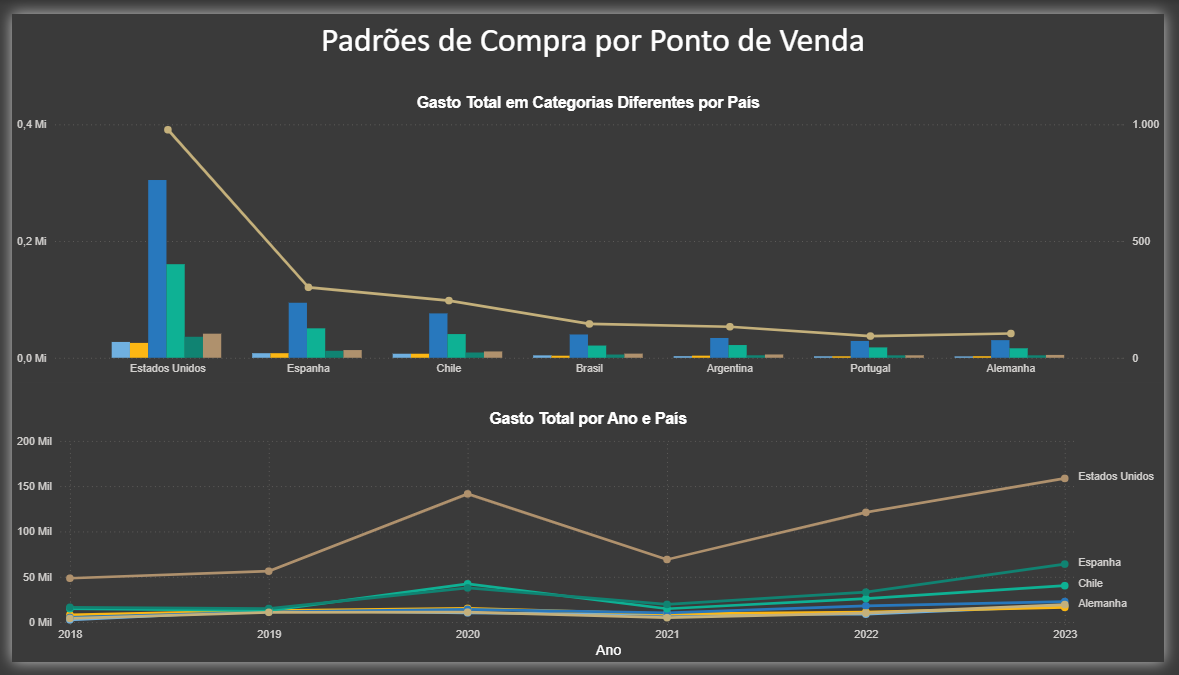

The dashboard page shown, as its layout file describes it:
{"tool":"powerbi","page":{"name":"Visão Pontos de Venda","canvas":[1280,720],"ordinal":3},"visuals":[{"type":"textbox","box":[9.5,0,1270.9,68.4],"z":0},{"type":"lineClusteredColumnComboChart","title":"Gasto Total em Categorias Diferentes por País","fields":{"Category":["DadosMarketing.Pais"],"Y":["Sum(DadosMarketing.Gasto com Alimentos)","Sum(DadosMarketing.Gasto com Brinquedos)","Sum(DadosMarketing.Gasto com Eletronicos)","Sum(DadosMarketing.Gasto com Moveis)","Sum(DadosMarketing.Gasto com Utilidades)","Sum(DadosMarketing.Gasto com Vestuario)"],"Y2":["CountNonNull(DadosMarketing.ID)"]},"box":[0,89.1,1280.4,321.3],"z":1},{"type":"lineChart","title":"Gasto Total por Ano e País","fields":{"Y":["DadosMarketing.Total Gasto"],"Series":["DadosMarketing.Pais"],"Category":["DadosMarketing.Data Cadastro.Variation.Hierarquia de datas.Ano"]},"box":[0,440.6,1280.4,279.9],"z":2}]}

Visuals, with their boxes in screenshot pixels (x1, y1, x2, y2), scaled from the page's 1280x720 canvas onto the 1179x675 screenshot:
textbox: [x1=9, y1=0, x2=1178, y2=64]
"Gasto Total em Categorias Diferentes por País" lineClusteredColumnComboChart: [x1=0, y1=84, x2=1178, y2=385]
"Gasto Total por Ano e País" lineChart: [x1=0, y1=413, x2=1178, y2=674]
